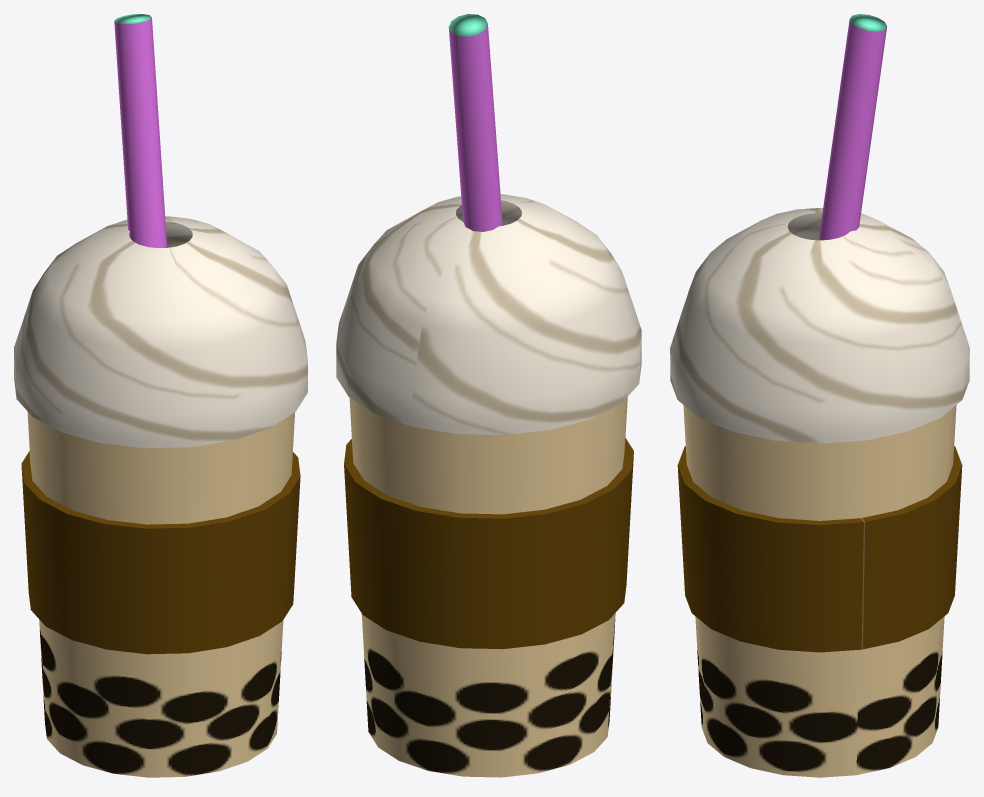
The model's file is cups1.fbx.
The picture shows the model from 3 angles, left to right: view 1: azimuth 30°, elevation 25°; view 2: azimuth 150°, elevation 25°; view 3: azimuth 270°, elevation 25°; orthographic projection. The views are drawn at different scales.
Visible parts, largest first — view 1: pCylinder9; view 2: pCylinder9; view 3: pCylinder9.
Boxes of the visible parts, bbox=[...] form: pCylinder9: bbox=[14, 14, 307, 777]; pCylinder9: bbox=[336, 14, 641, 777]; pCylinder9: bbox=[670, 14, 969, 777].
Bounding box in the file's own units: 0.000652 × 0.00172 × 0.000652.
2 materials, 2 textured.
